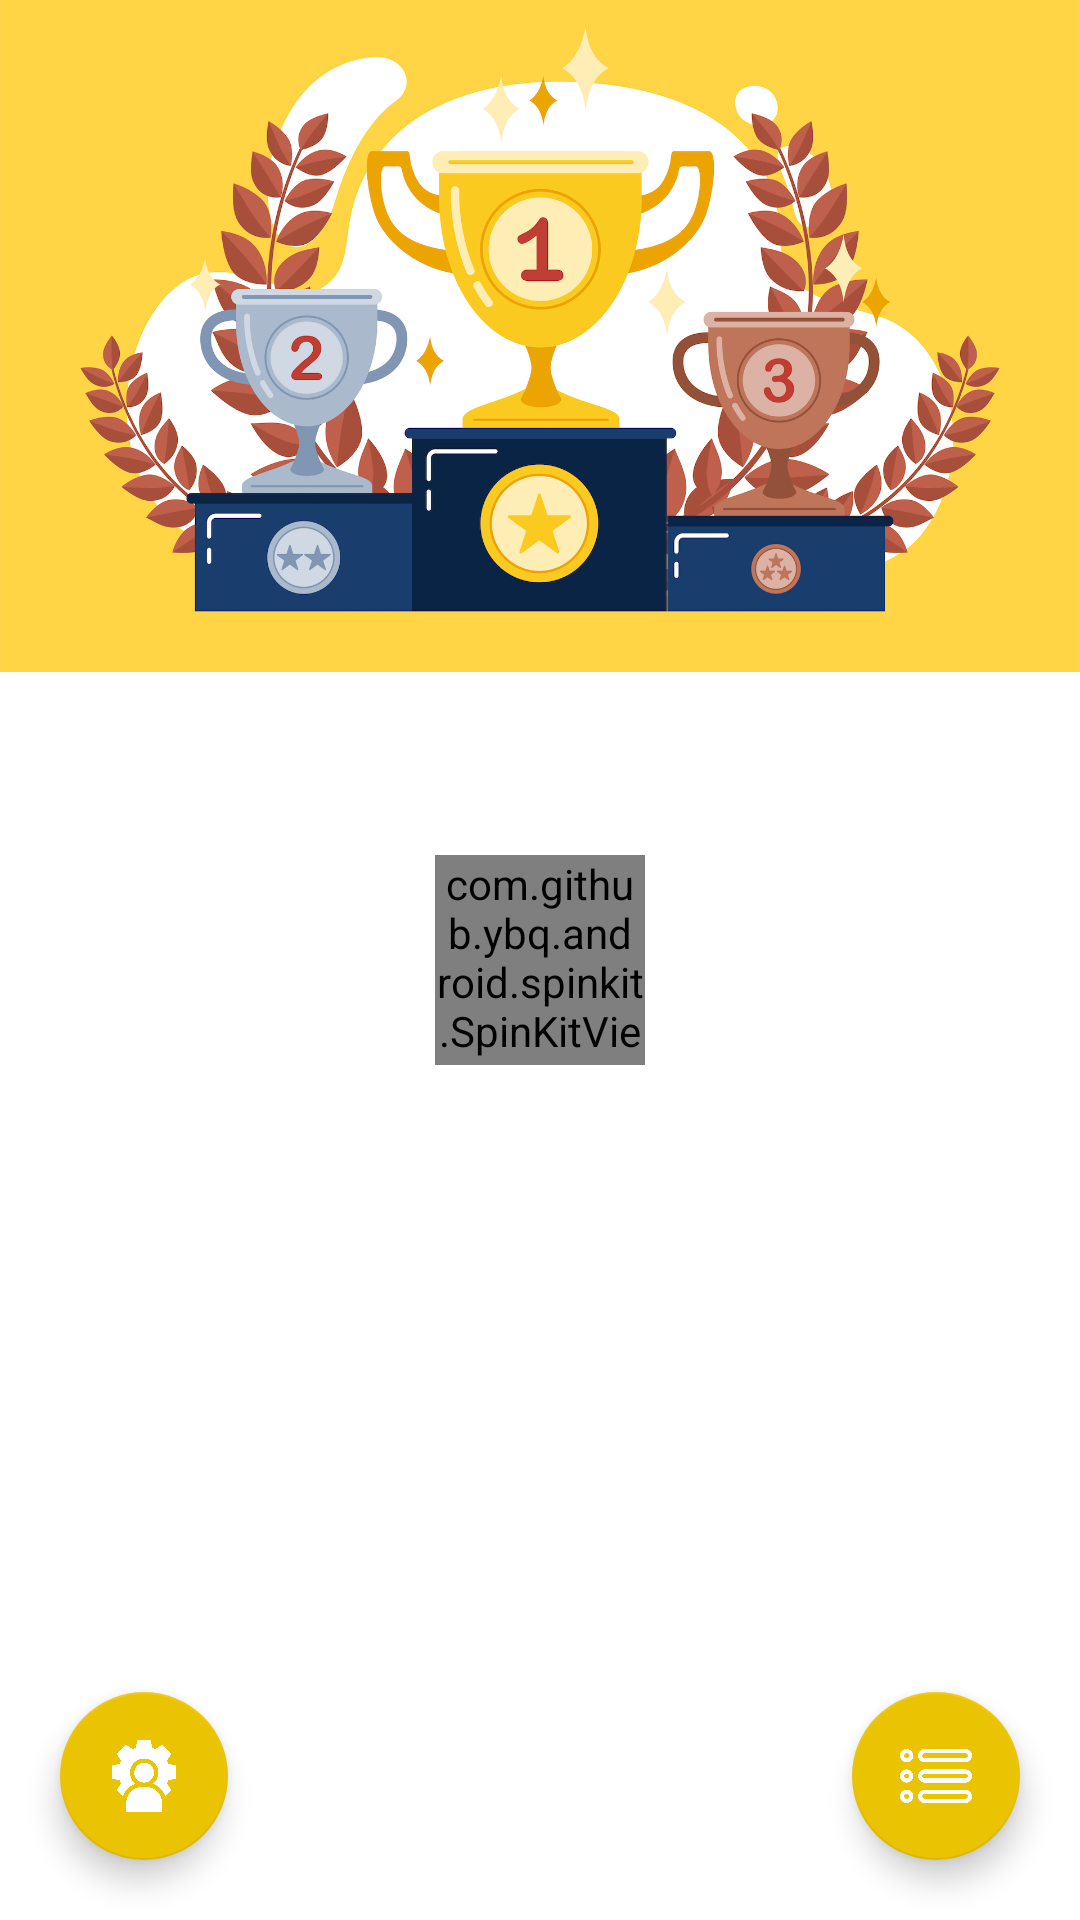

Icons on this 1080*1920 Android screen, each with its box as rect(x1, y1, x2, y2):
admin: rect(60, 1692, 228, 1860)
list: rect(852, 1692, 1020, 1860)
